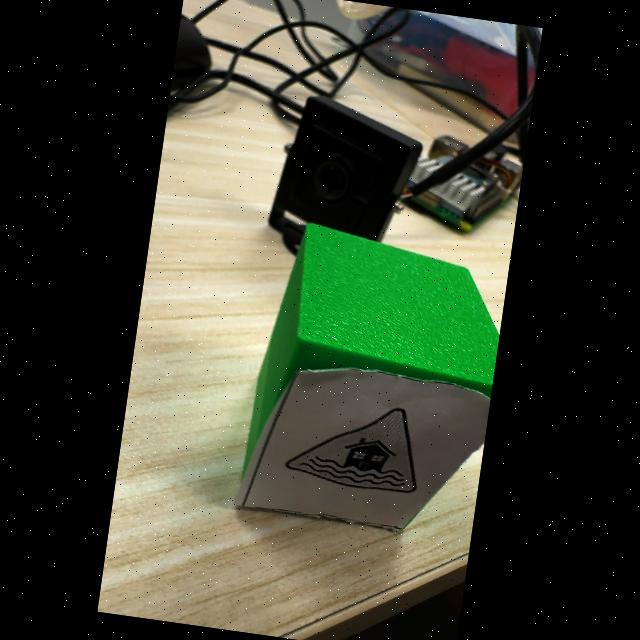Tsunami: (286, 409, 415, 492)
